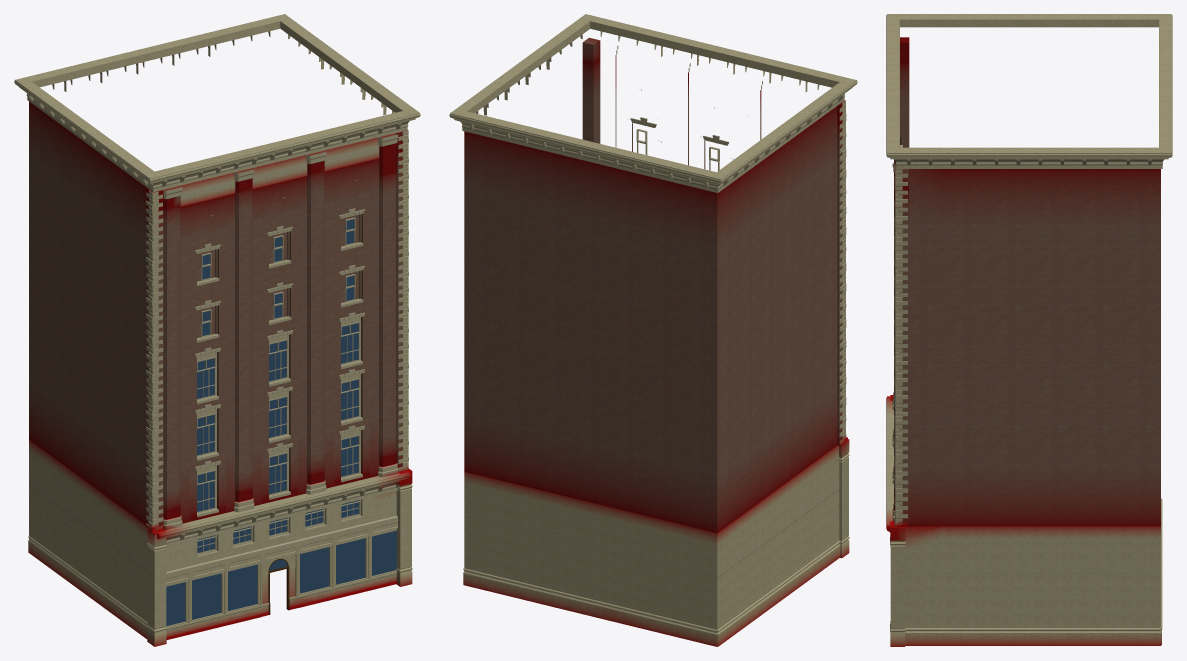
The model's file is Building_Medium_2_001.glb.
The picture shows the model from 3 angles, left to right: view 1: azimuth 30°, elevation 25°; view 2: azimuth 150°, elevation 25°; view 3: azimuth 270°, elevation 25°; orthographic projection. The views are drawn at different scales.
Parts seen in each view (by area): view 1: Plane002_10, Plane002_7, Plane002_8, Plane002_1, Plane002_9; view 2: Plane002_10, Plane002_7; view 3: Plane002_10, Plane002_7.
Part boxes in pixels (bbox=[...]): Plane002_10: bbox=[29, 101, 408, 531]; Plane002_7: bbox=[14, 14, 420, 646]; Plane002_8: bbox=[166, 219, 396, 626]; Plane002_1: bbox=[166, 515, 397, 639]; Plane002_9: bbox=[197, 500, 360, 553]; Plane002_10: bbox=[464, 37, 845, 532]; Plane002_7: bbox=[449, 14, 857, 646]; Plane002_10: bbox=[894, 37, 1160, 526]; Plane002_7: bbox=[886, 14, 1172, 646].
Bounding box in the file's own units: 15.06 × 25.01 × 13.06.
5 materials, 4 textured.
